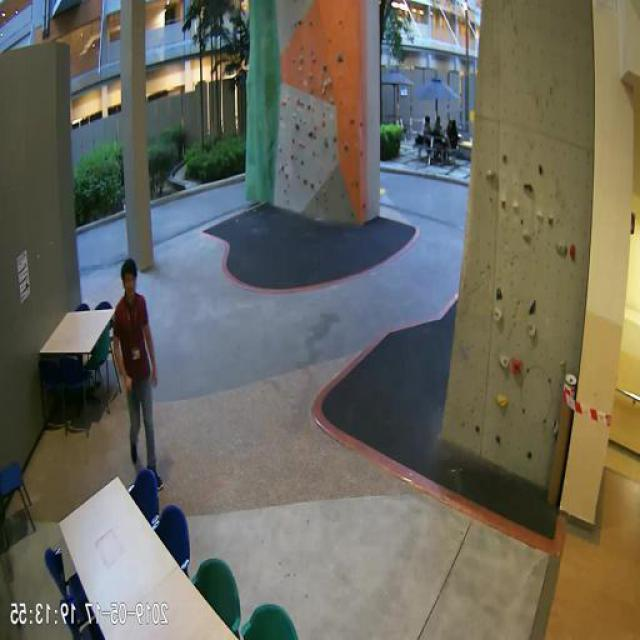Gun: (129, 375, 140, 409)
